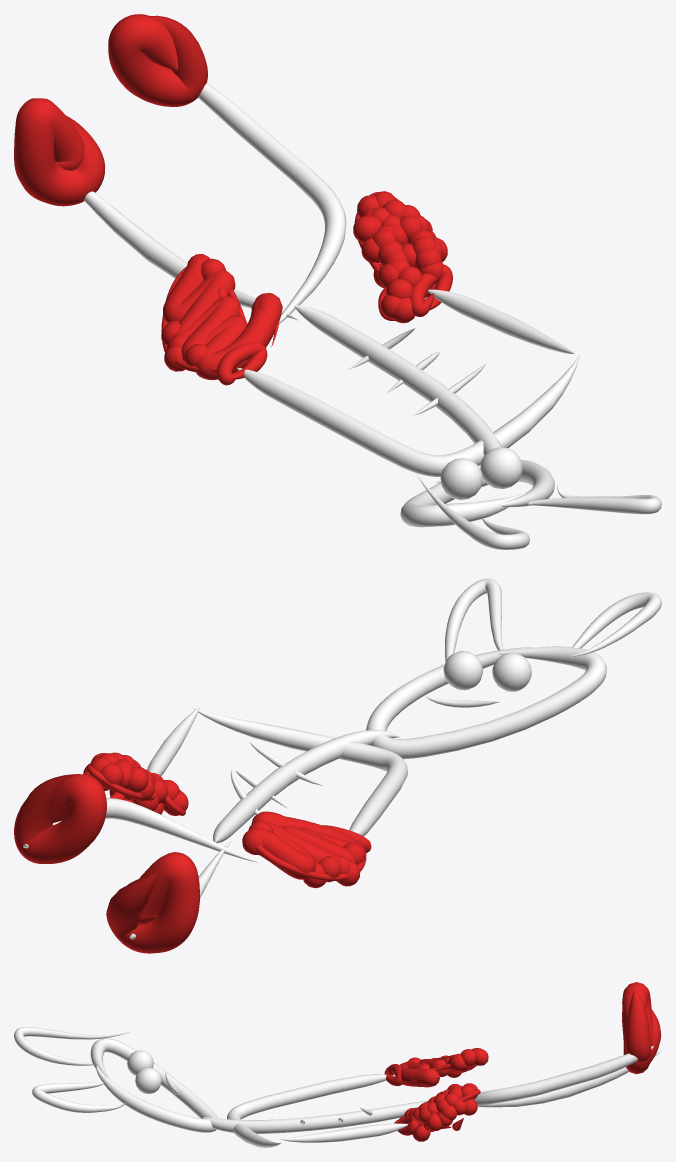
File: boxer.glb
3 views of the same model, one above another, from view 1: azimuth 30°, elevation 25°; view 2: azimuth 150°, elevation 25°; view 3: azimuth 270°, elevation 25° (orthographic). The views are drawn at different scales.
Visible parts, largest first — view 1: boxer; view 2: boxer; view 3: boxer.
Part boxes in pixels (x1,y1,x2,y2): boxer: (14, 14, 661, 549); boxer: (14, 578, 661, 953); boxer: (14, 982, 661, 1147).
Size of the model in its own units: 0.4139 by 0.2934 by 1.2.
1 material, 1 textured.
